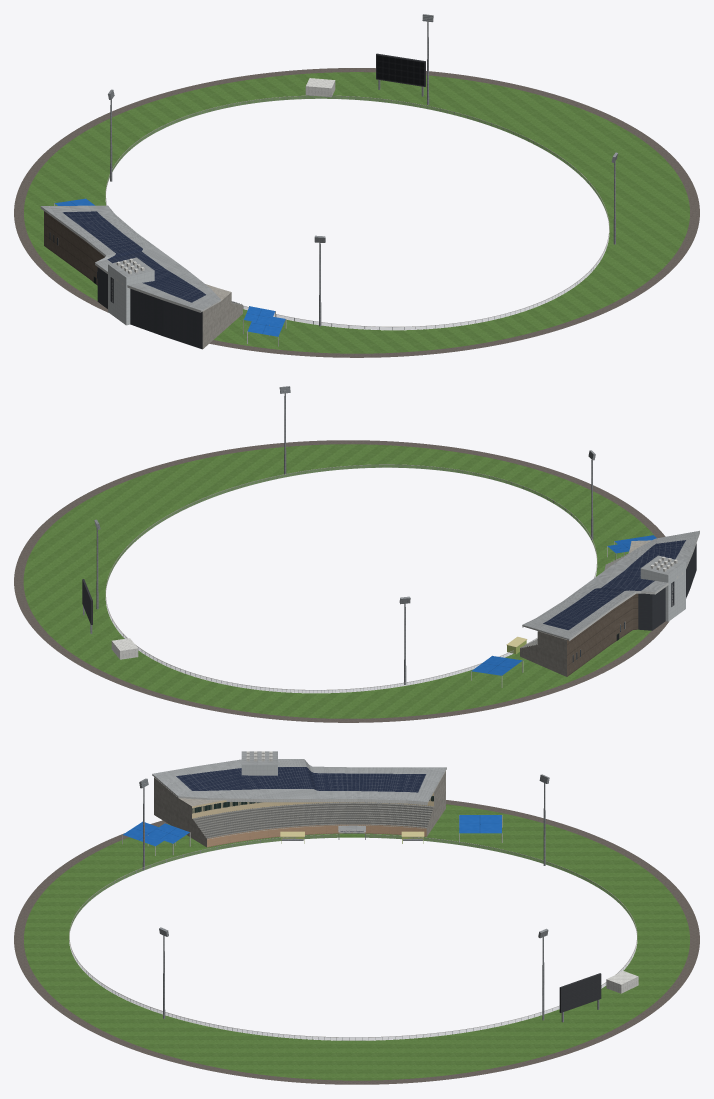
File: riverway.glb
3 renders of one model, top to bottom at view 1: azimuth 30°, elevation 25°; view 2: azimuth 150°, elevation 25°; view 3: azimuth 270°, elevation 25°, orthographic. The views are drawn at different scales.
Parts seen in each view (by area): view 1: concourse, roofs, stands, extras, mesh, towers; view 2: concourse, roofs, stands, extras, mesh, towers; view 3: concourse, stands, roofs, extras, mesh, towers, seat_posts.
Part boxes in pixels (<box>): concourse: <box>14,68,699,357</box>; roofs: <box>40,205,220,312</box>; stands: <box>44,211,242,349</box>; extras: <box>49,53,425,346</box>; mesh: <box>105,95,609,330</box>; towers: <box>108,14,617,326</box>; concourse: <box>14,440,669,722</box>; roofs: <box>522,530,699,640</box>; stands: <box>520,540,696,676</box>; extras: <box>82,535,685,687</box>; mesh: <box>105,464,597,692</box>; towers: <box>94,386,595,684</box>; concourse: <box>14,800,699,1084</box>; stands: <box>154,771,445,847</box>; roofs: <box>152,759,446,805</box>; extras: <box>122,751,638,1022</box>; mesh: <box>69,834,637,1040</box>; towers: <box>139,774,549,1020</box>; seat_posts: <box>198,802,430,837</box>.
Size of the model in its own units: 208 by 29.98 by 208.
Materials: 30 (30 with a texture image).
